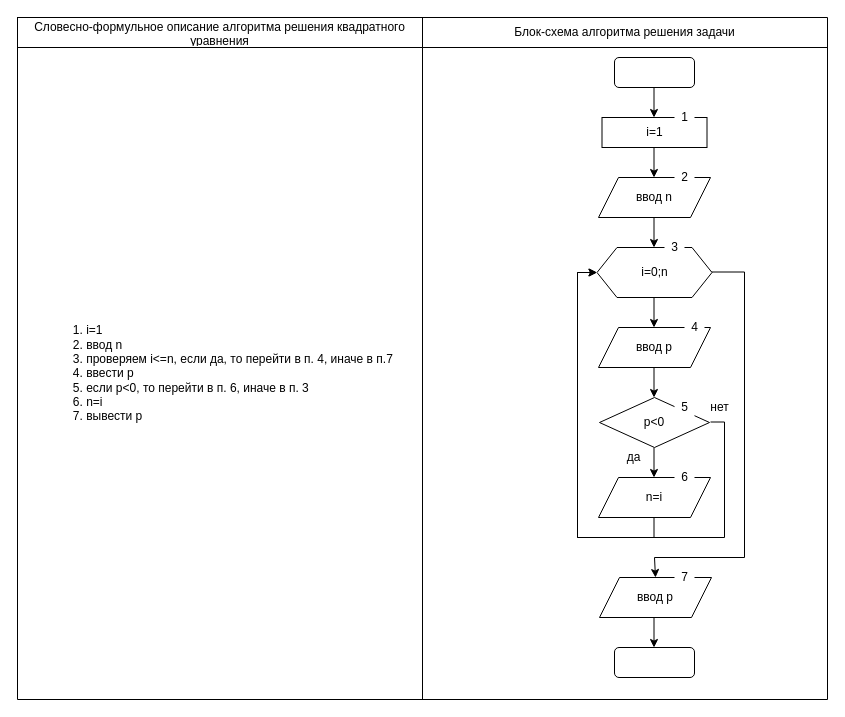
The diagram is 845 pixels wide and 717 high, and some of its shapes have lost their labels. The centre of each missing label's shape, as x and y in pixels:
конец: the point at 654,662
начало: the point at 654,72
